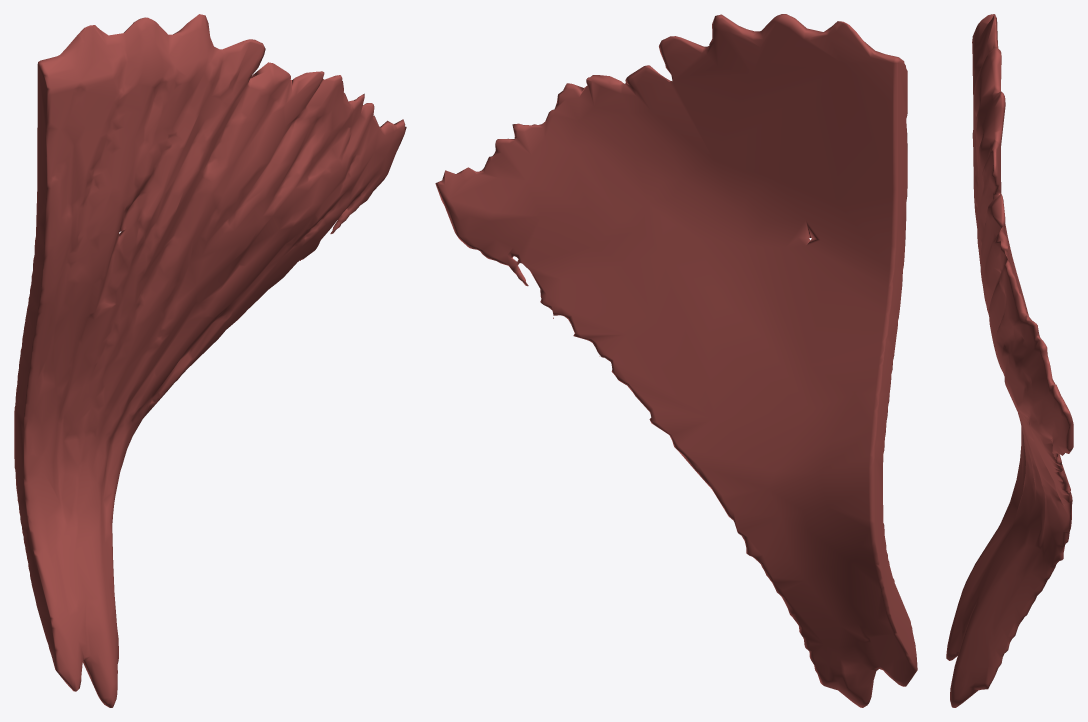
Rendered from FMA55611.glb.
3 renders of one model, left to right at view 1: azimuth 30°, elevation 25°; view 2: azimuth 150°, elevation 25°; view 3: azimuth 270°, elevation 25°, orthographic. The views are drawn at different scales.
Visible parts, largest first — view 1: FMA55611; view 2: FMA55611; view 3: FMA55611.
Part boxes in pixels (bbox=[...]): FMA55611: bbox=[14, 14, 406, 707]; FMA55611: bbox=[435, 14, 917, 707]; FMA55611: bbox=[946, 14, 1073, 707].
Size of the model in its own units: 0.0224 by 0.0354 by 0.00592.
